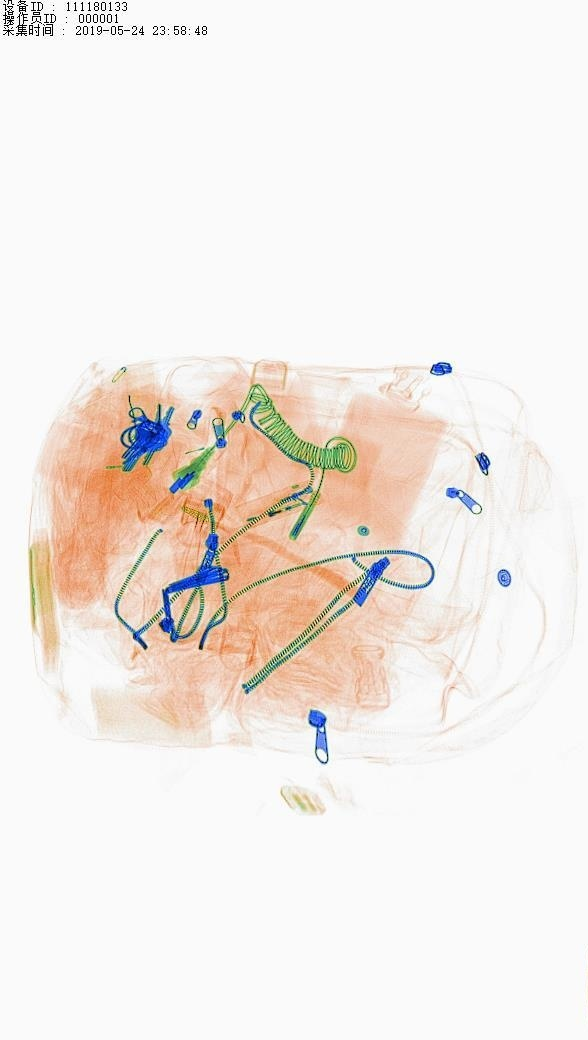NonmetallicFire: (224, 477, 327, 541)
